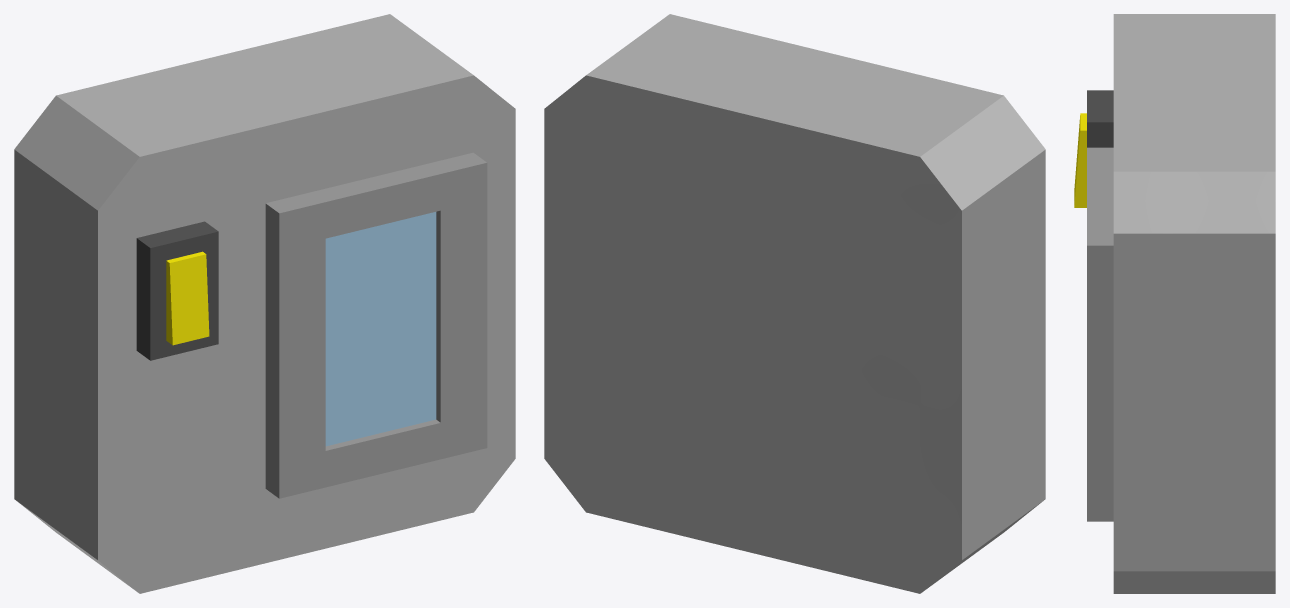
The picture shows the model from 3 angles, left to right: view 1: azimuth 30°, elevation 25°; view 2: azimuth 150°, elevation 25°; view 3: azimuth 270°, elevation 25°; orthographic projection. The views are drawn at different scales.
Parts seen in each view (by area): view 1: Lo-BoDy_01; view 2: Lo-BoDy_01; view 3: Lo-BoDy_01.
Part boxes in pixels (bbox=[...]): Lo-BoDy_01: bbox=[14, 14, 515, 593]; Lo-BoDy_01: bbox=[544, 14, 1045, 593]; Lo-BoDy_01: bbox=[1074, 14, 1275, 593].
Bounding box in the file's own units: 0.122 × 0.122 × 0.0527.
Materials: 1 (1 with a texture image).
